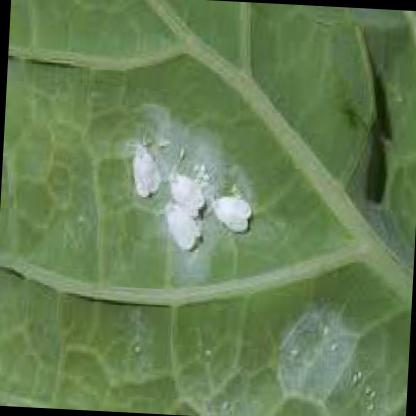whitefly: (164, 171, 205, 252), (211, 194, 252, 230), (134, 143, 158, 196)
